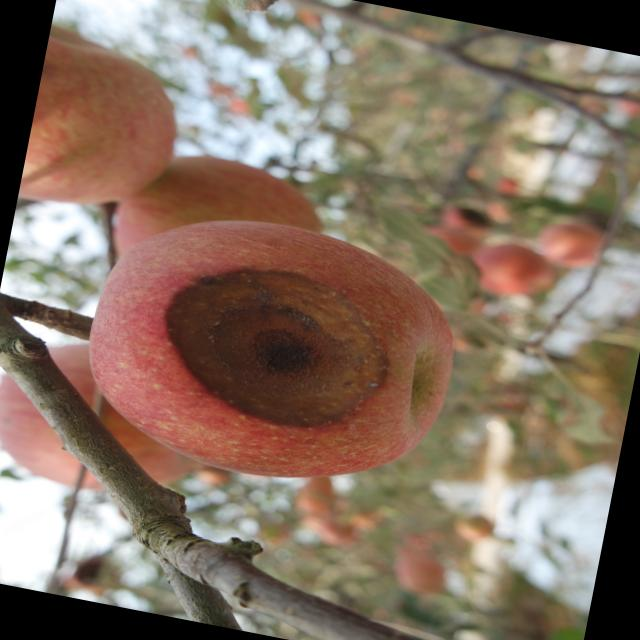rotten: (50, 179, 492, 528)
